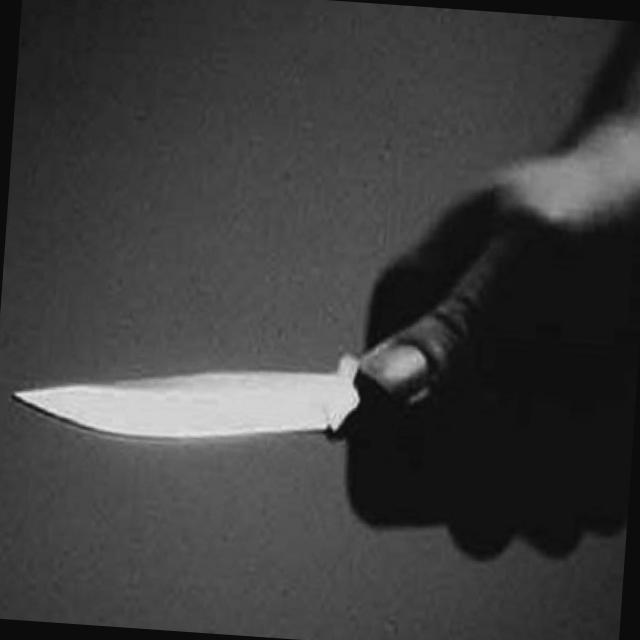knife: (0, 307, 466, 475)
